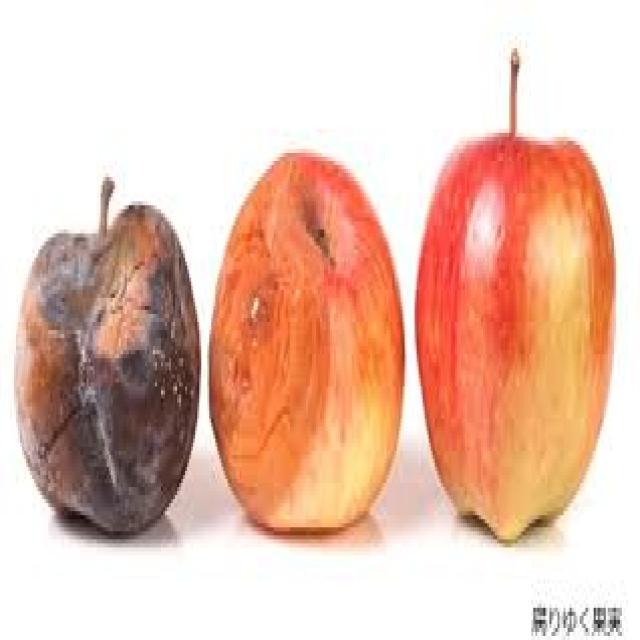food_waste: (417, 133, 612, 535), (209, 153, 403, 523), (18, 177, 199, 527)
